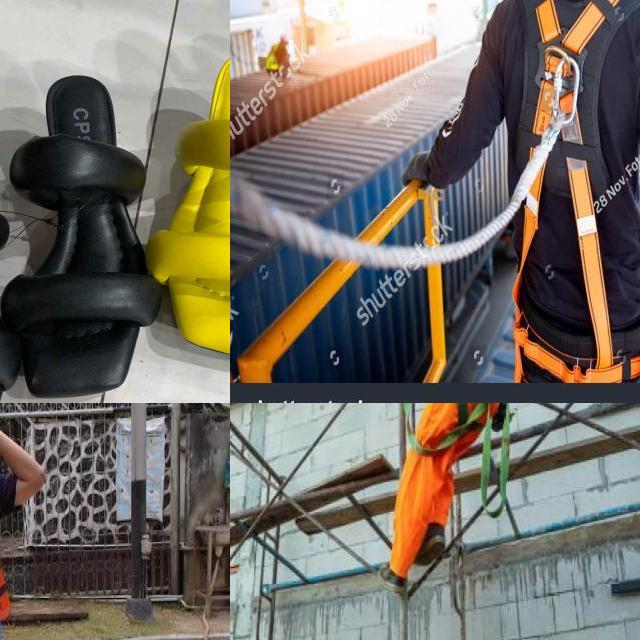Harness: (514, 0, 640, 384)
Sandals: (0, 37, 155, 403), (148, 17, 230, 391)
